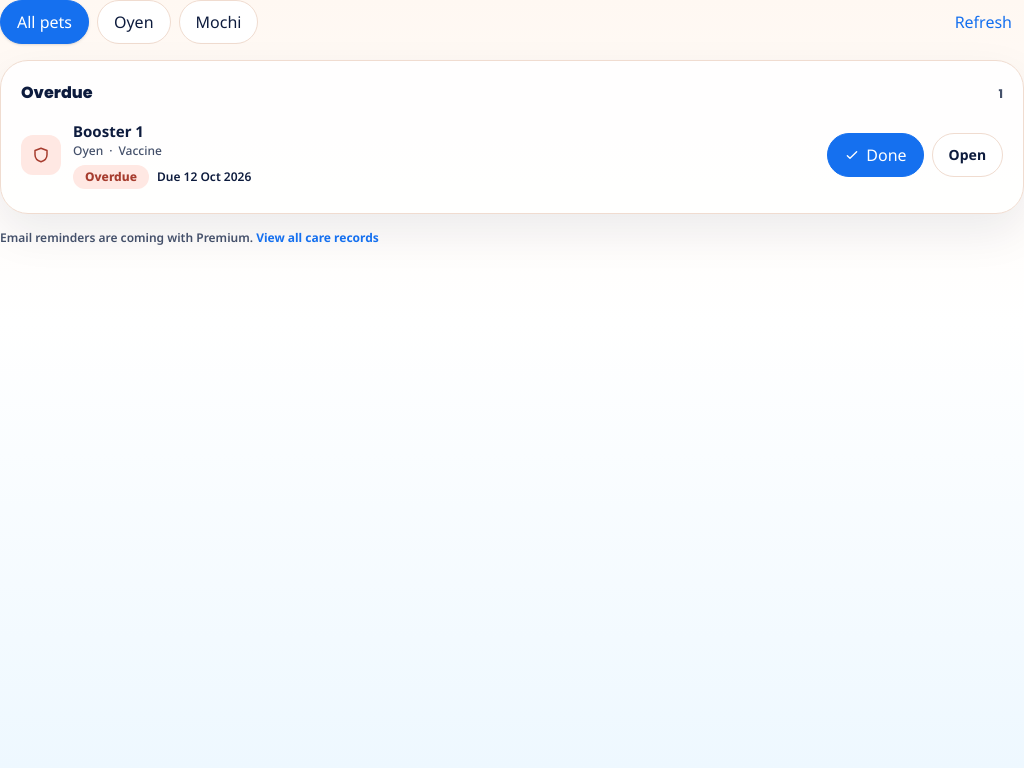
Test case: Mark as done from the planner › after an unknown outcome, keeps the details and retries the very same request
Click the button with aria-label "Mark Booster 1 for Oyen as done": x=875, y=155 [827,133,924,177]
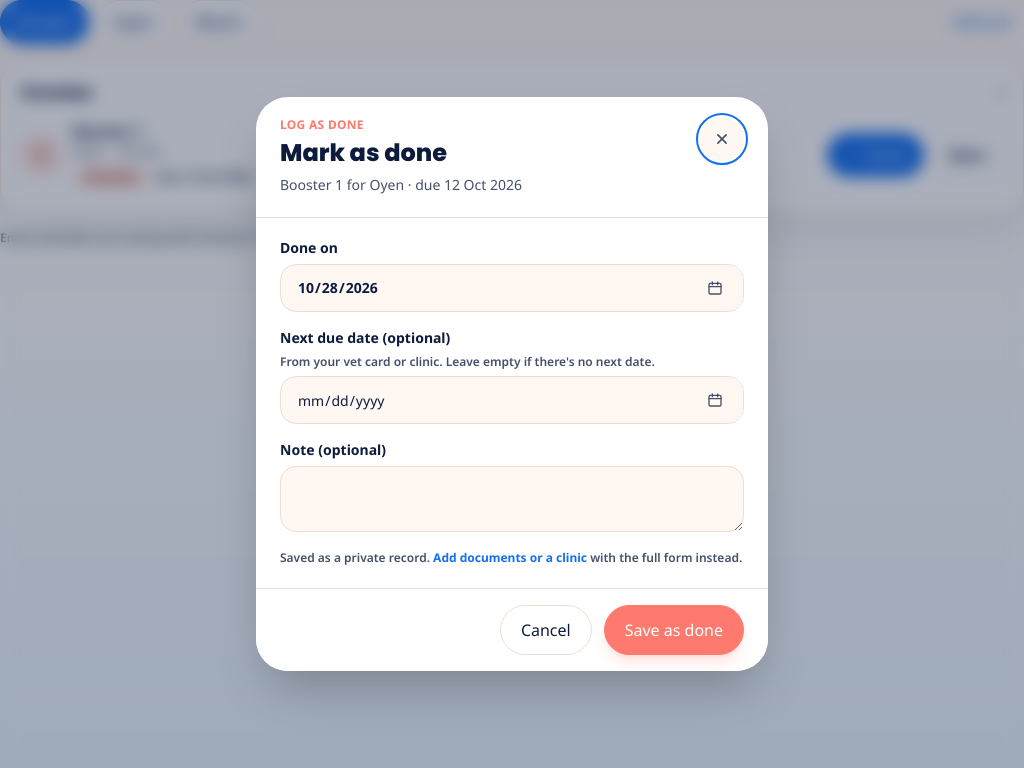
expect the dialog "Mark as done" is shown: met
In the date field labelled "Next due date (optional)": x=512, y=400 [280,376,744,424], type "2027-10-12"
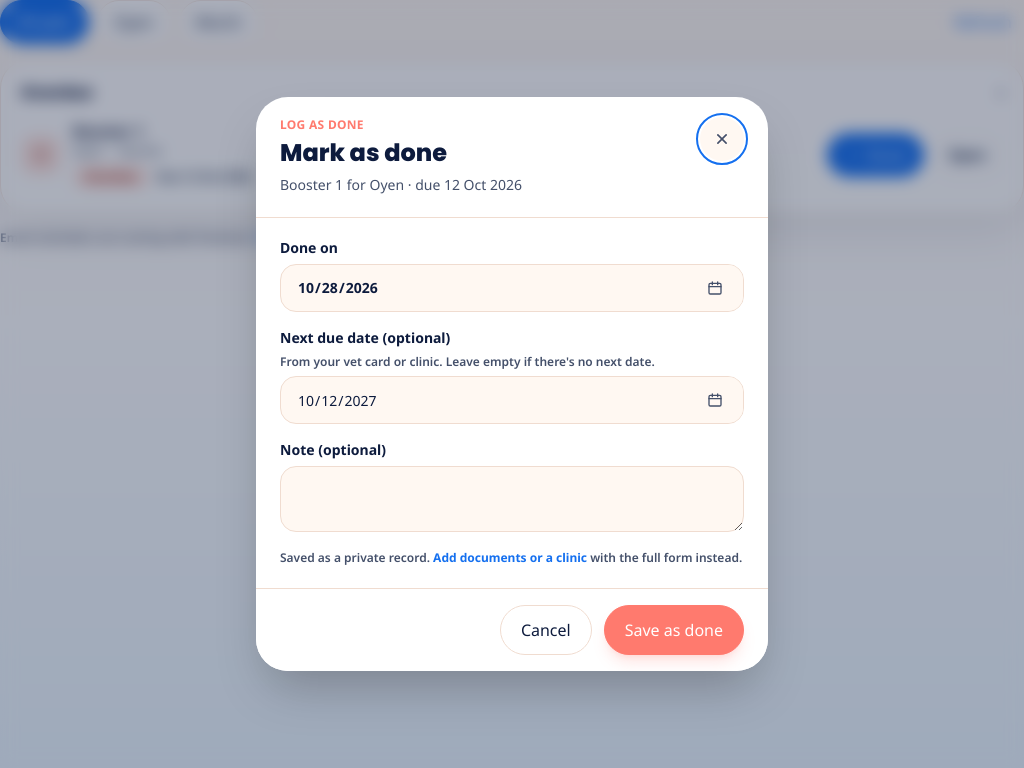
Click the button "Save as done": x=674, y=630 [604,605,744,655]
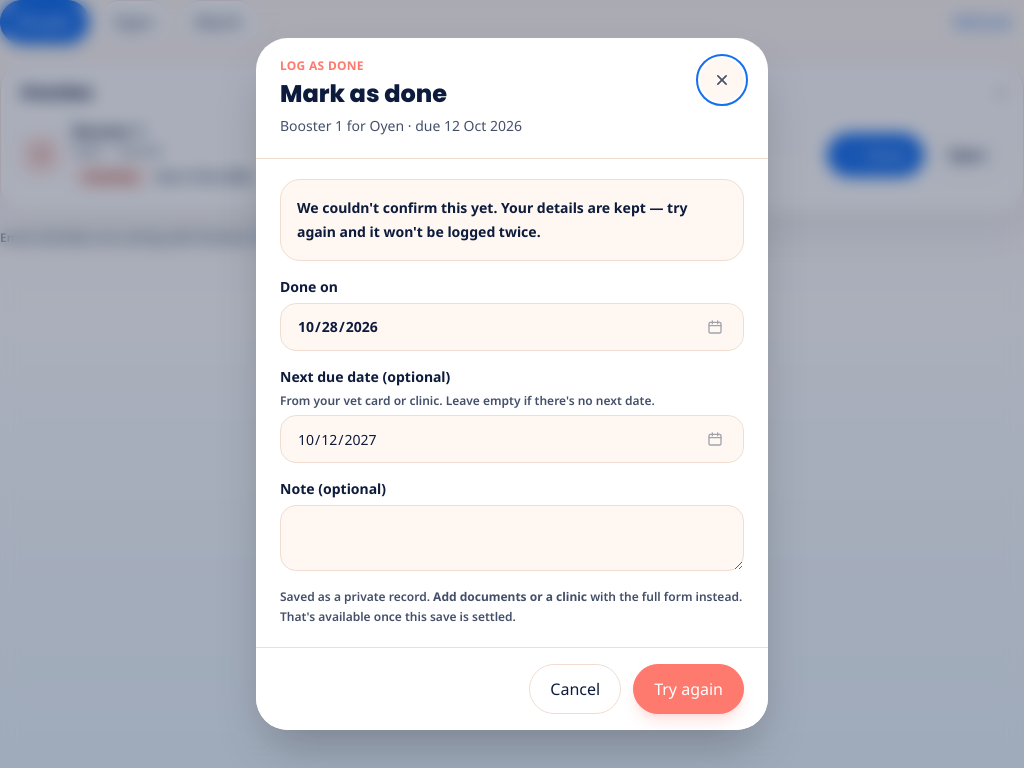
expect the text "We couldn't confirm this yet" is shown: met, box [297,198,687,241]
Click the button "Try again": x=689, y=689 [633,664,744,714]
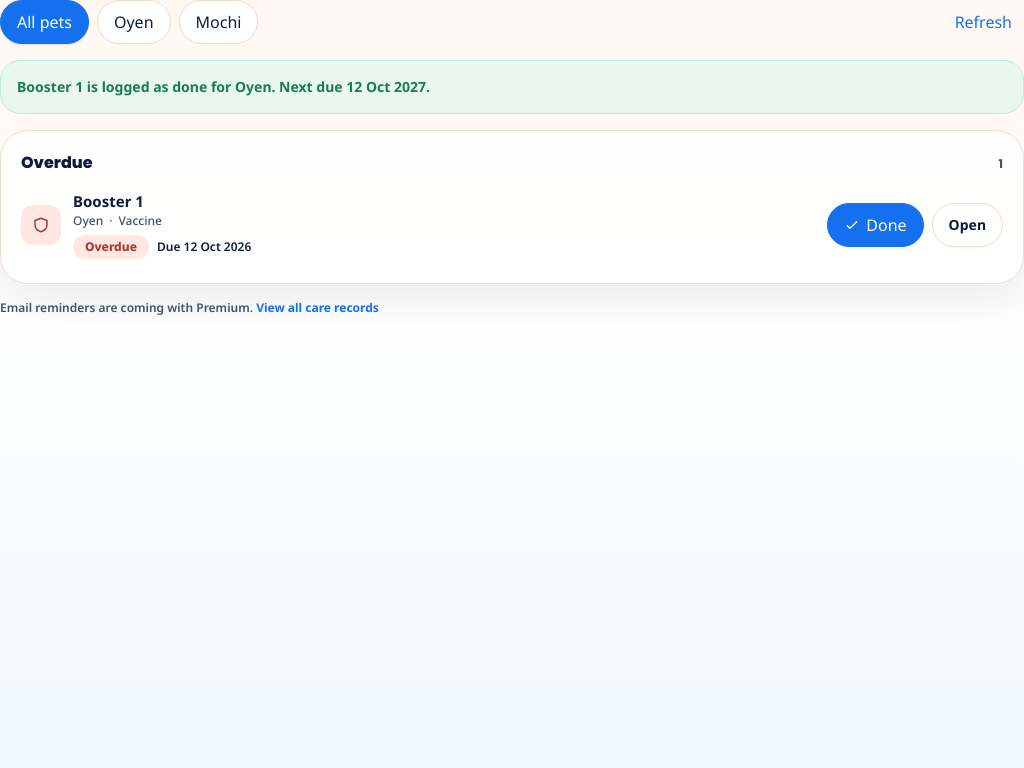
expect the text "Booster 1 is logged as done for Oyen. Next due 12 Oct 2027." is shown: met, box [0,60,1023,114]
